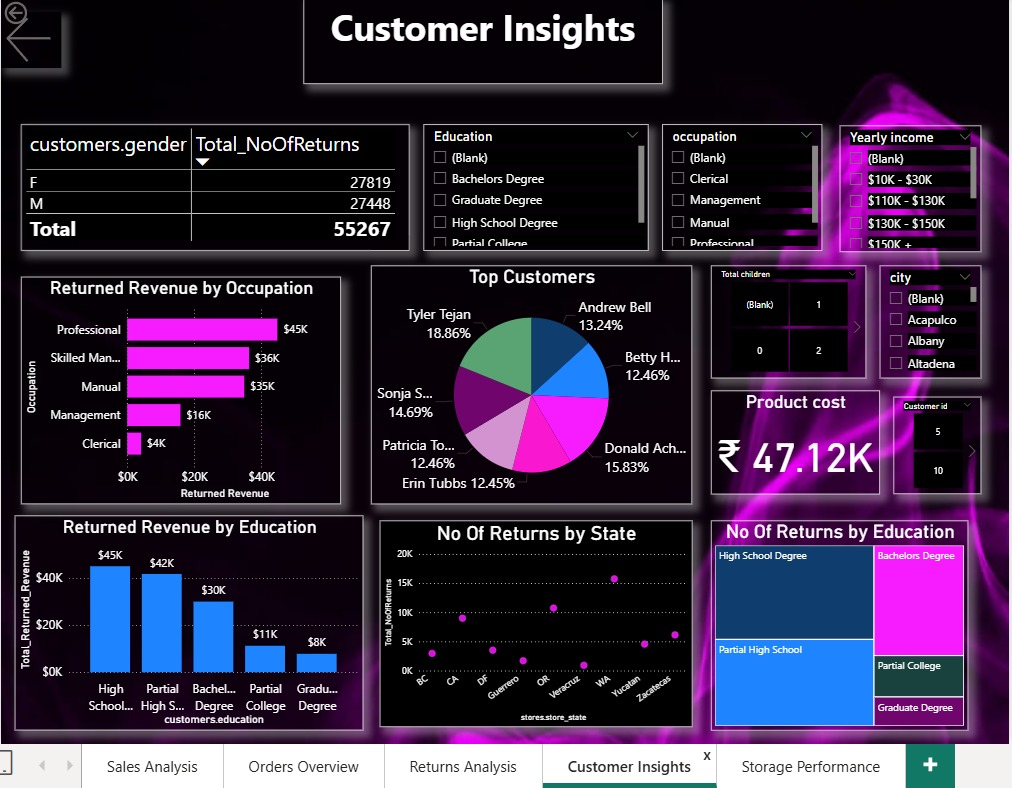

What the dashboard file says about the page in this screenshot:
{"tool":"powerbi","page":{"name":"Customer Insights","canvas":[1350,1000],"ordinal":3},"visuals":[{"type":"textbox","box":[405.2,0,481.4,115.2],"z":0},{"type":"pieChart","title":"Top Customers","fields":{"Y":["transactions.Total_Sales"],"Series":["transactions.Full Name"]},"box":[496,358.6,430.6,320],"z":1000},{"type":"barChart","title":"Returned Revenue by Occupation","fields":{"Category":["returns.customers.occupation"],"Y":["returns.Total_Returned_Revenue"]},"box":[26.8,373.7,429,305],"z":2000},{"type":"columnChart","title":"Returned Revenue by Education","fields":{"Category":["returns.customers.education"],"Y":["returns.Total_Returned_Revenue"]},"box":[18.4,693.7,467.5,288.2],"z":3000},{"type":"actionButton","box":[0,18.5,80.6,75.6],"z":4000},{"type":"tableEx","title":"No Of Returns by Gender","fields":{"Values":["returns.customers.gender","returns.Total_NoOfReturns"]},"box":[26.8,169.2,521.1,169.2],"z":5000},{"type":"treemap","title":"No Of Returns by Education","fields":{"Group":["returns.customers.education"],"Values":["returns.Total_NoOfReturns"]},"box":[951.7,700.4,345.2,281.5],"z":6000},{"type":"scatterChart","title":"No Of Returns by State","fields":{"Y":["returns.Total_NoOfReturns"],"X":["returns.stores.store_state"]},"box":[507.7,700.4,418.9,276.5],"z":7000},{"type":"slicer","fields":{"Values":["customers.education"]},"box":[566.4,169.2,301.6,169.2],"z":8000},{"type":"slicer","fields":{"Values":["customers.occupation"]},"box":[886.4,169.2,214.5,169.2],"z":9000},{"type":"slicer","fields":{"Values":["customers.yearly_income"]},"box":[1124.3,170.9,189.3,169.2],"z":10000},{"type":"slicer","fields":{"Values":["customers.total_children"]},"box":[951.7,358.6,207.8,150.8],"z":11000},{"type":"card","title":"Product cost","fields":{"Values":["Sum(returns.products.product_cost)"]},"box":[951.7,526.1,226.2,139.1],"z":12000},{"type":"slicer","fields":{"Values":["customers.city"]},"box":[1178,358.6,135.7,150.8],"z":13000},{"type":"slicer","fields":{"Values":["transaction1997.customer_id"]},"box":[1196.4,534.5,117.3,130.7],"z":14000},{"type":"actionButton","box":[0,0,100,40],"z":15000}]}

Visuals, with their boxes on the page's 1350x1000 design canvas (x1, y1, x2, y2). These are canvas units, not pixel positions in the 1012x788 screenshot, which may show the page scaled, cropped or inside an application window:
textbox: {"left": 405, "top": 0, "right": 887, "bottom": 115}
"Top Customers" pieChart: {"left": 496, "top": 359, "right": 927, "bottom": 679}
"Returned Revenue by Occupation" barChart: {"left": 27, "top": 374, "right": 456, "bottom": 679}
"Returned Revenue by Education" columnChart: {"left": 18, "top": 694, "right": 486, "bottom": 982}
actionButton: {"left": 0, "top": 18, "right": 81, "bottom": 94}
"No Of Returns by Gender" tableEx: {"left": 27, "top": 169, "right": 548, "bottom": 338}
"No Of Returns by Education" treemap: {"left": 952, "top": 700, "right": 1297, "bottom": 982}
"No Of Returns by State" scatterChart: {"left": 508, "top": 700, "right": 927, "bottom": 977}
slicer - customers.education: {"left": 566, "top": 169, "right": 868, "bottom": 338}
slicer - customers.occupation: {"left": 886, "top": 169, "right": 1101, "bottom": 338}
slicer - customers.yearly_income: {"left": 1124, "top": 171, "right": 1314, "bottom": 340}
slicer - customers.total_children: {"left": 952, "top": 359, "right": 1160, "bottom": 509}
"Product cost" card: {"left": 952, "top": 526, "right": 1178, "bottom": 665}
slicer - customers.city: {"left": 1178, "top": 359, "right": 1314, "bottom": 509}
slicer - transaction1997.customer_id: {"left": 1196, "top": 534, "right": 1314, "bottom": 665}
actionButton: {"left": 0, "top": 0, "right": 100, "bottom": 40}
